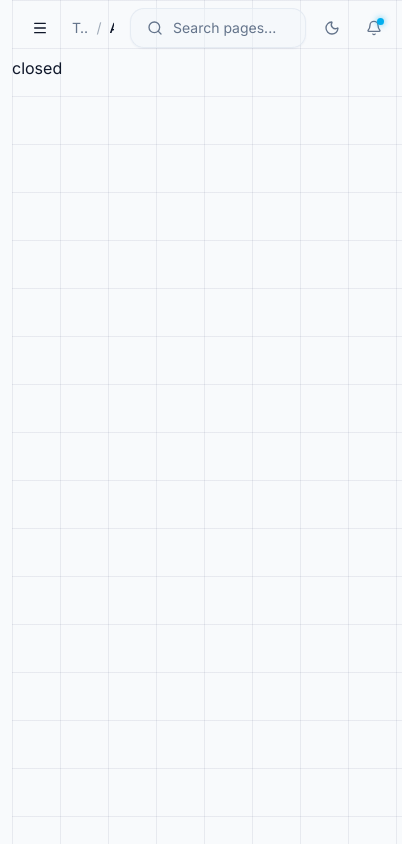
Test: UtilityBar › toggles the sidebar from the mobile hamburger control
The image size is (402, 844).
Expected: the text with test id "sidebar-state" reads "closed", top-left (12, 58), bottom-right (62, 78)
Click the button named "open navigation panel": (40,28) top-left (24, 12), bottom-right (56, 44)
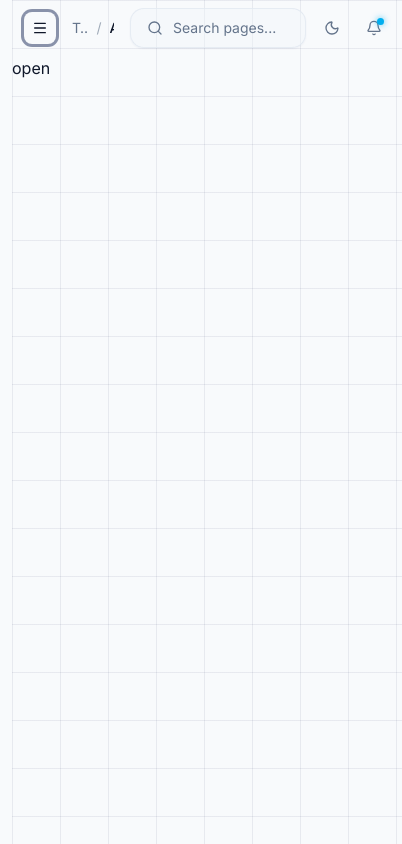
Result: the text with test id "sidebar-state" reads "open" at top-left (12, 58), bottom-right (50, 78)
